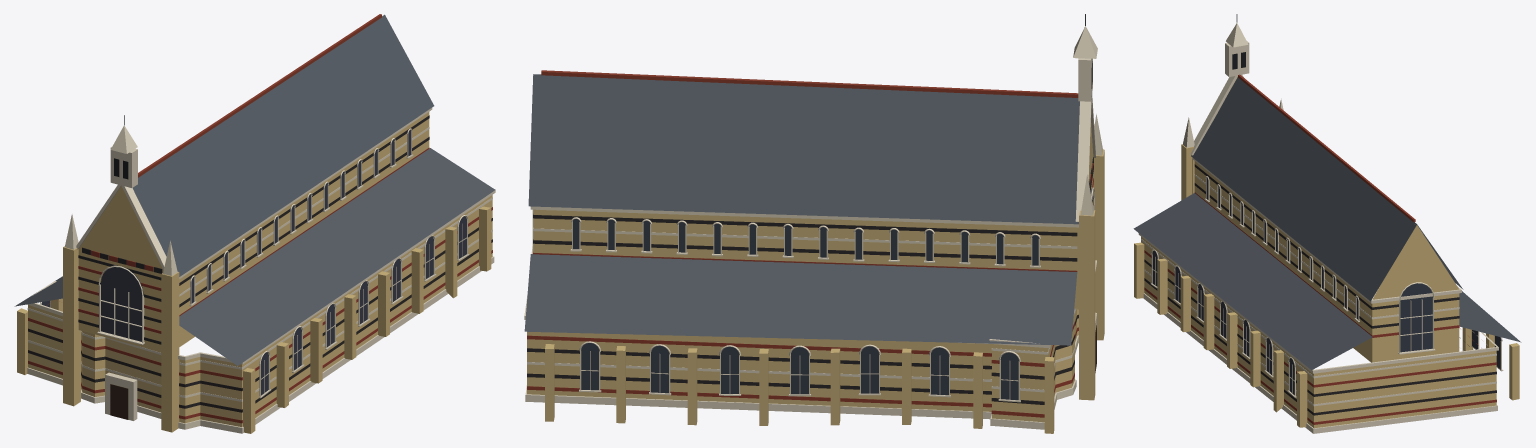
The model's file is st_augustines_queens_gate.glb.
3 renders of one model, left to right at view 1: azimuth 30°, elevation 25°; view 2: azimuth 150°, elevation 25°; view 3: azimuth 270°, elevation 25°, orthographic. The views are drawn at different scales.
Size of the model in its own units: 49.82 by 30.74 by 41.49.
